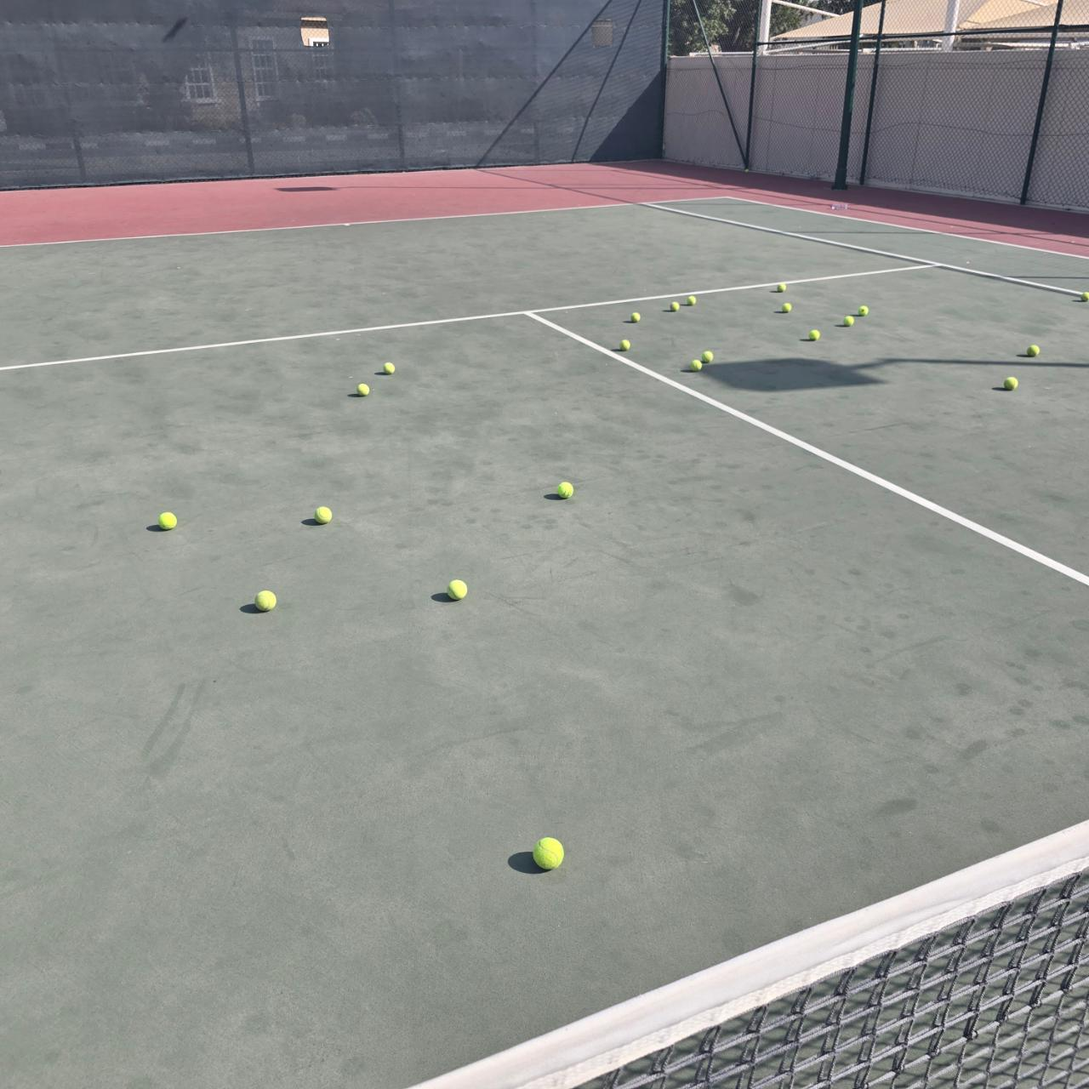tennis-ball: (531, 834, 564, 870), (254, 588, 277, 610), (447, 577, 467, 599), (157, 509, 177, 529), (313, 504, 332, 523), (556, 479, 573, 499), (1002, 374, 1018, 390), (699, 348, 713, 363), (1026, 342, 1040, 357), (356, 380, 369, 396), (382, 360, 395, 373), (619, 338, 631, 352), (781, 301, 793, 313), (690, 359, 701, 372), (808, 330, 820, 341), (630, 312, 641, 323), (686, 295, 697, 306), (843, 316, 854, 327), (858, 306, 869, 317), (775, 283, 788, 292), (1079, 292, 1089, 303), (670, 302, 680, 312)
